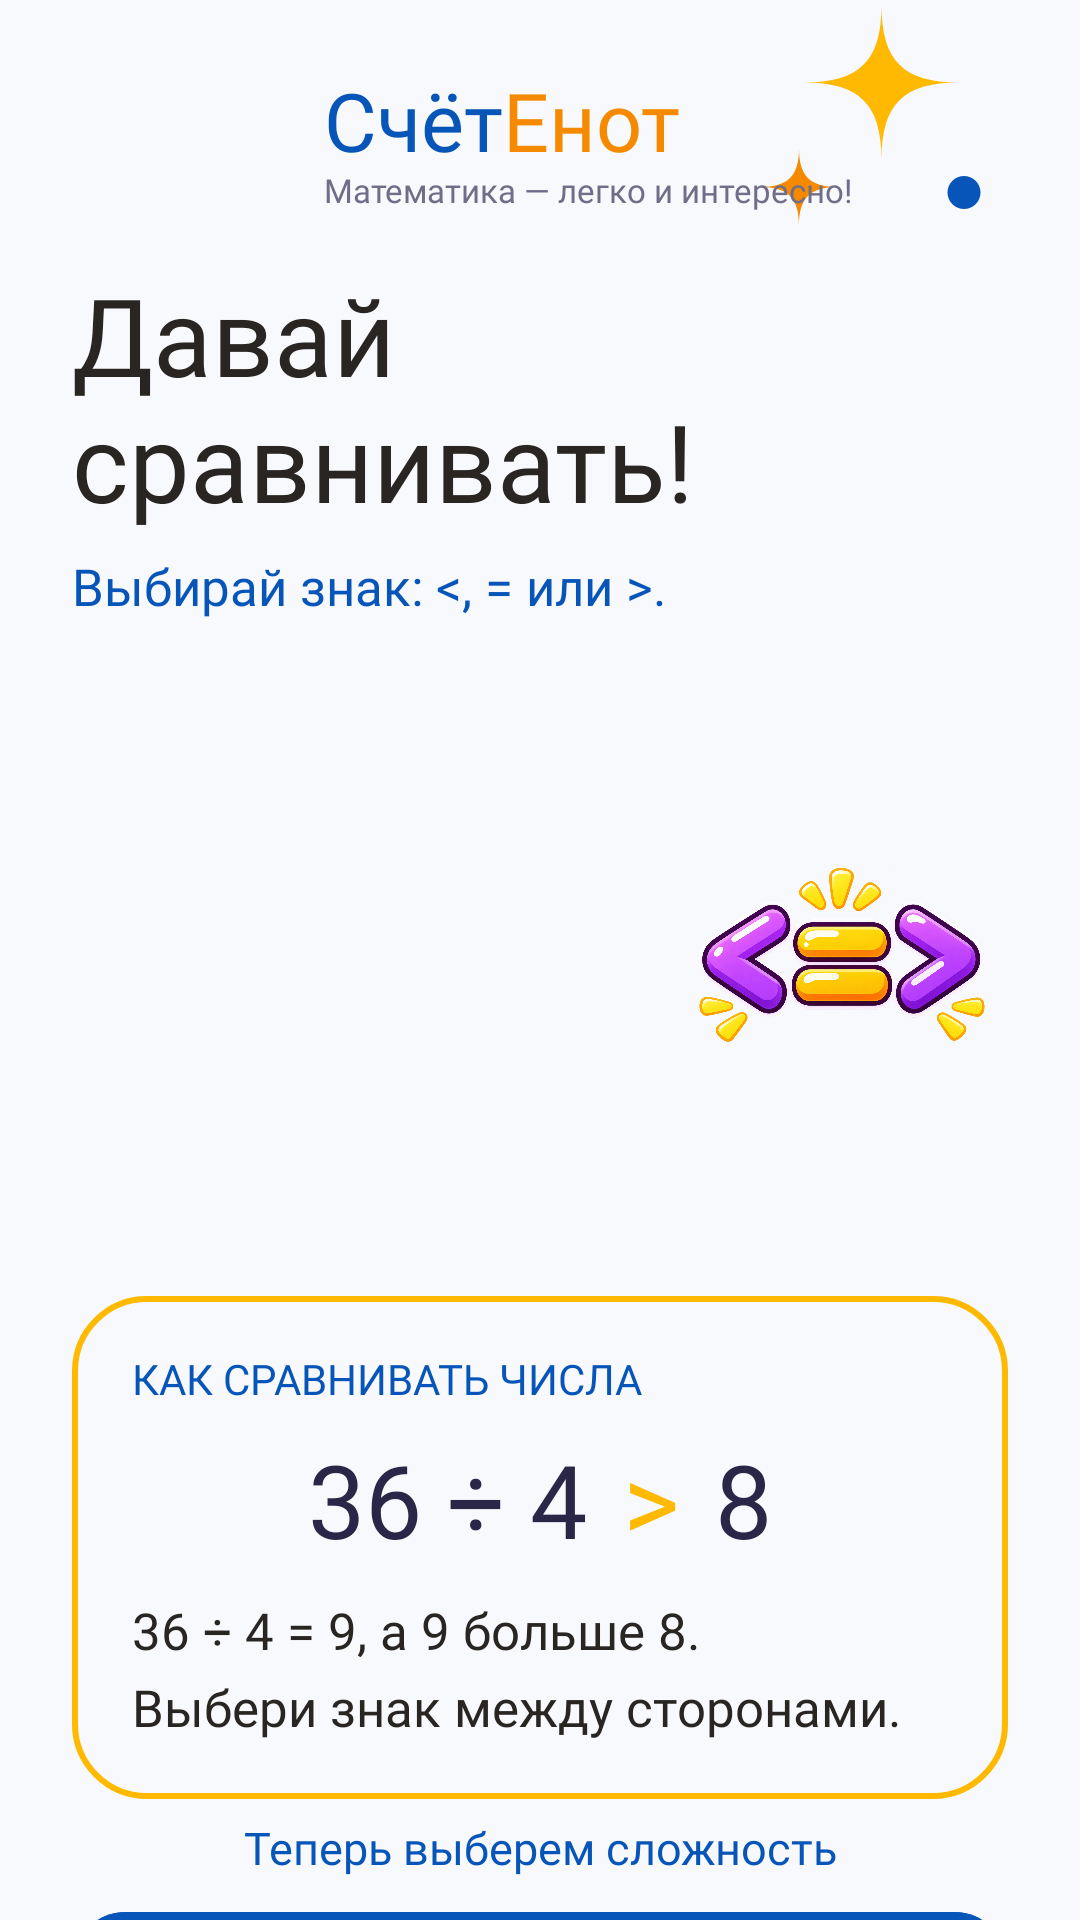

Icons on this 1080px x 1920px Android screen, each with the point to tap as (x=x, y=y):
decor comparison: (x=842, y=955)
